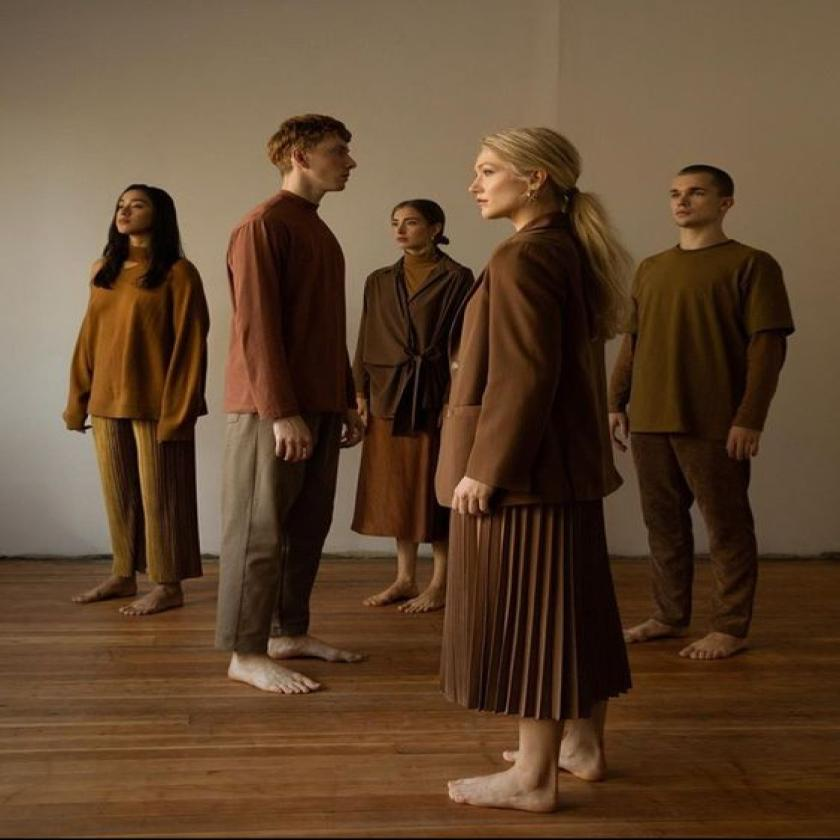Sin_casco: (464, 123, 591, 225), (266, 110, 370, 213), (663, 162, 742, 231), (109, 181, 182, 246), (387, 197, 449, 259)
